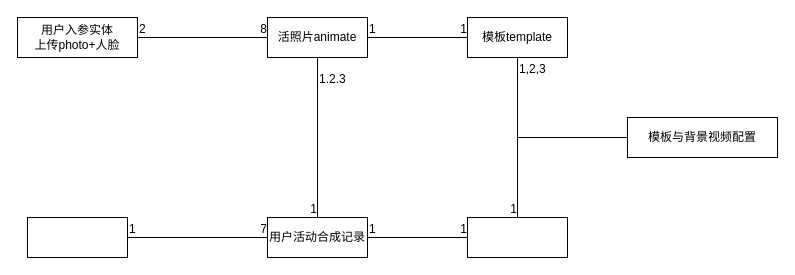
Image size: 795x275. Some labels were removed from this diagram. Here are the shapes that lost their labels. From the top down, the centre of each, then its label:
At (x=77, y=237): "用户活动记录".
At (x=517, y=237): "背景视频位置详情".
